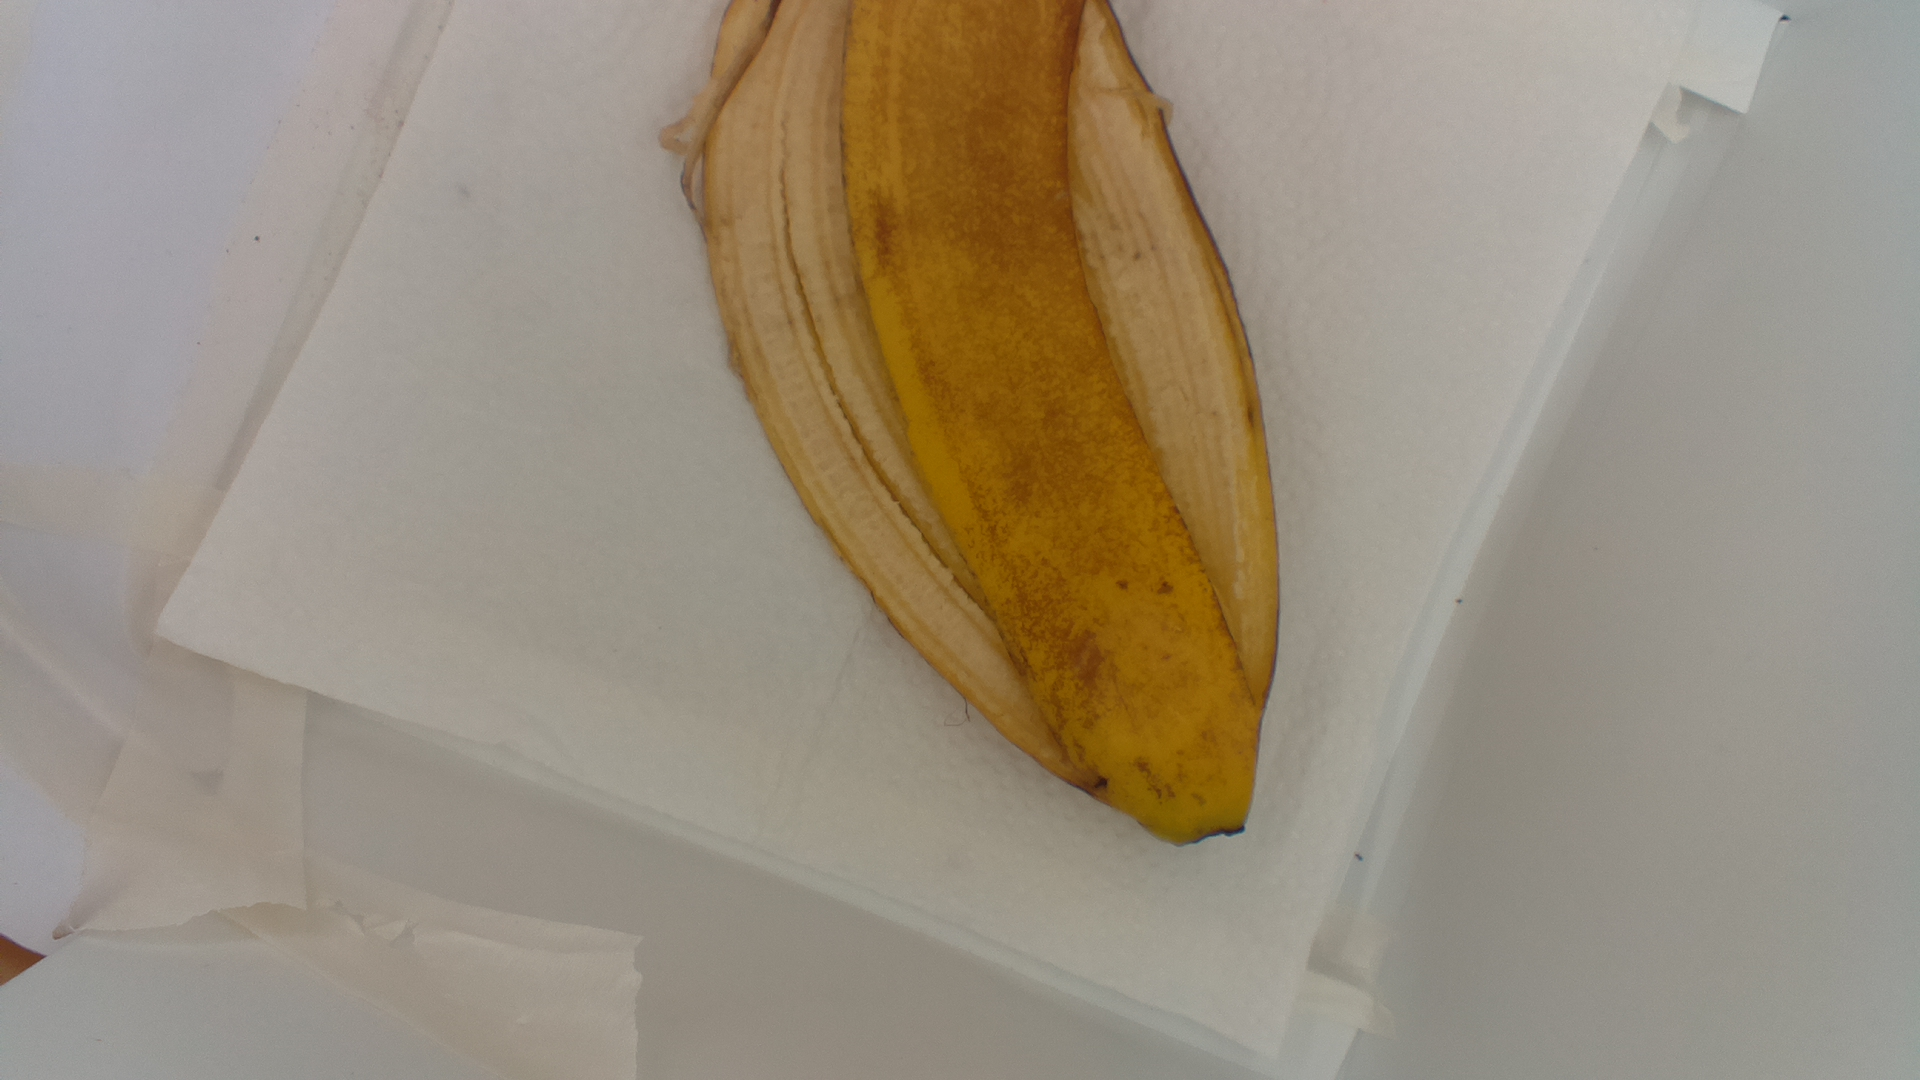fruit: (658, 1, 1279, 853)
